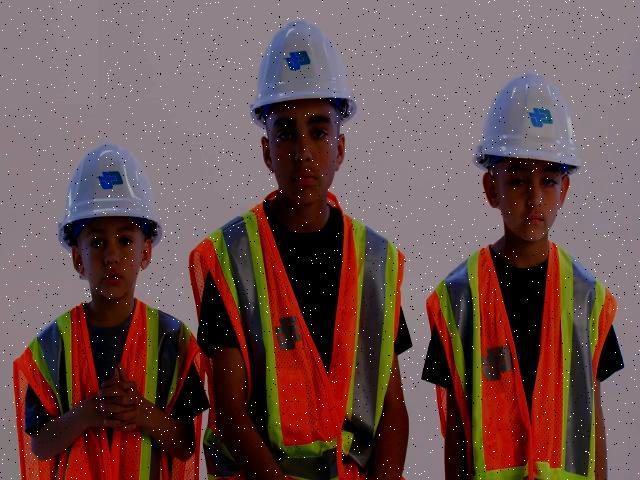Helmet: (466, 67, 584, 194), (247, 13, 362, 136), (51, 140, 168, 254)
